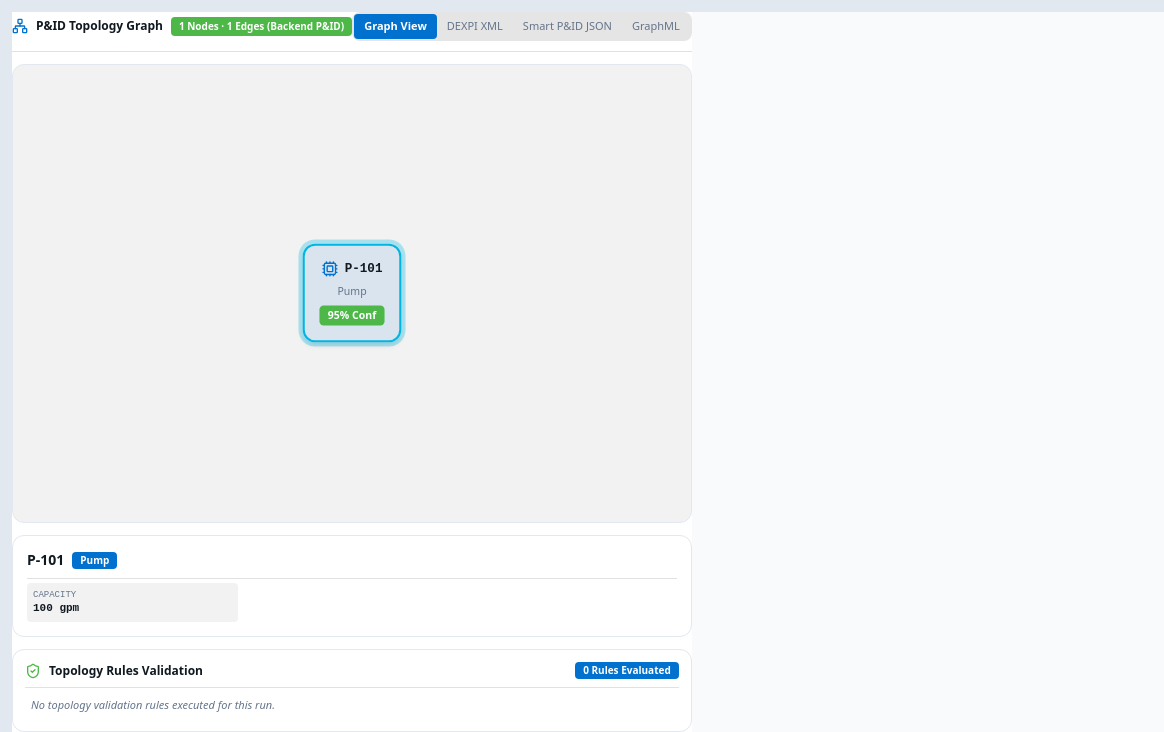
Test: GraphVisualizationView [BLK-249] › Smart P&ID JSON tab › shows real smart_pid_json when provided
The width and height of the screenshot is (1164, 732).
# Switch to Smart P&ID tab
Click the button "Smart P&ID JSON". click: (567, 26)
box: x1=513 y1=14 x2=622 y2=38
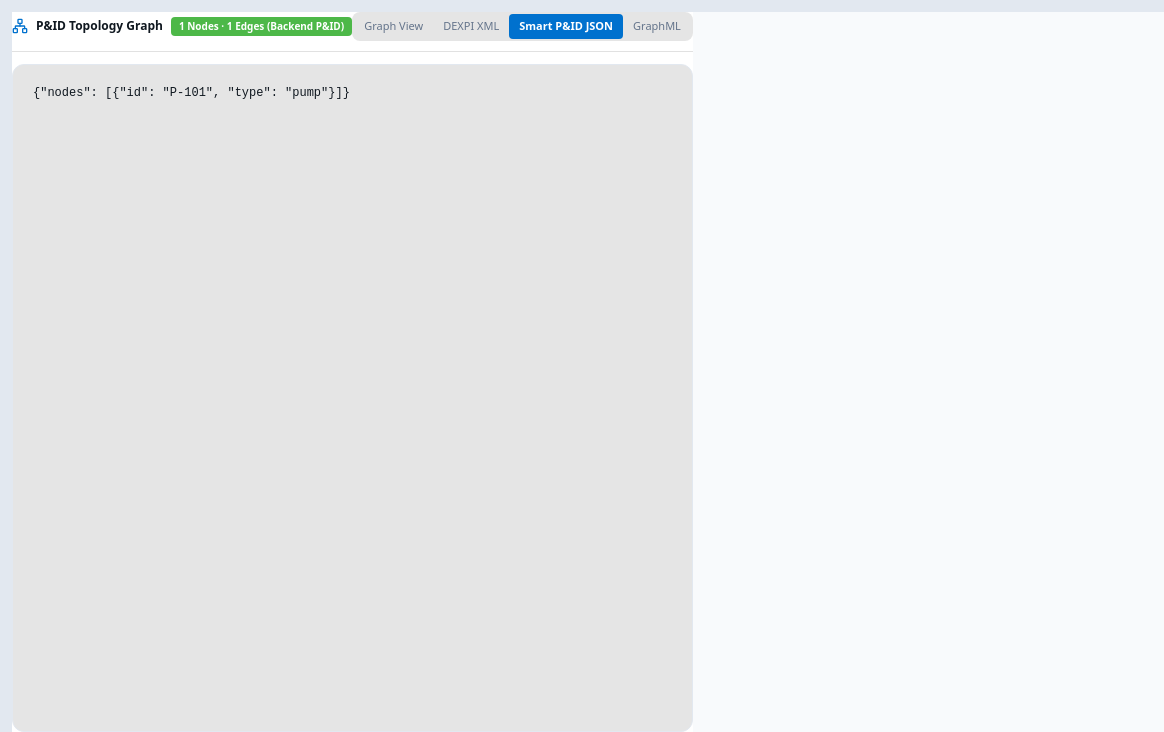
Result: the text "{\"nodes\": [{\"id\": \"P-101\", \"type\": \"pump\"}]}" is shown at x1=33 y1=86 x2=350 y2=100
